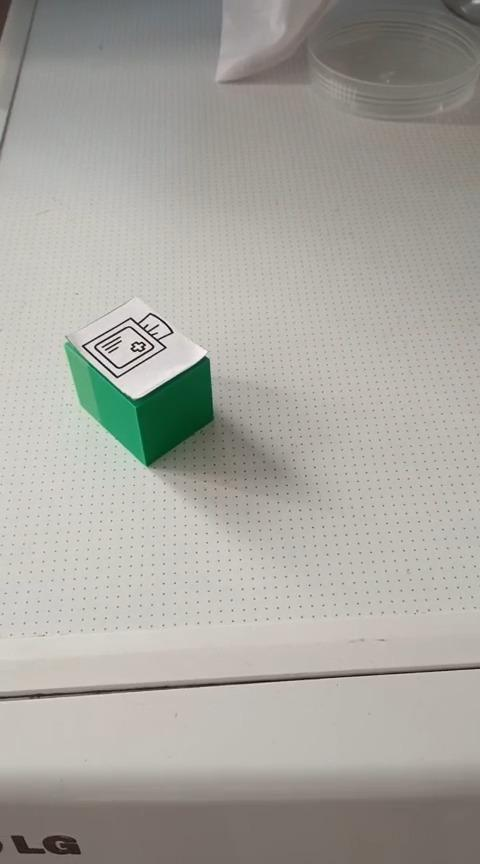Gauze: (62, 294, 214, 467)
